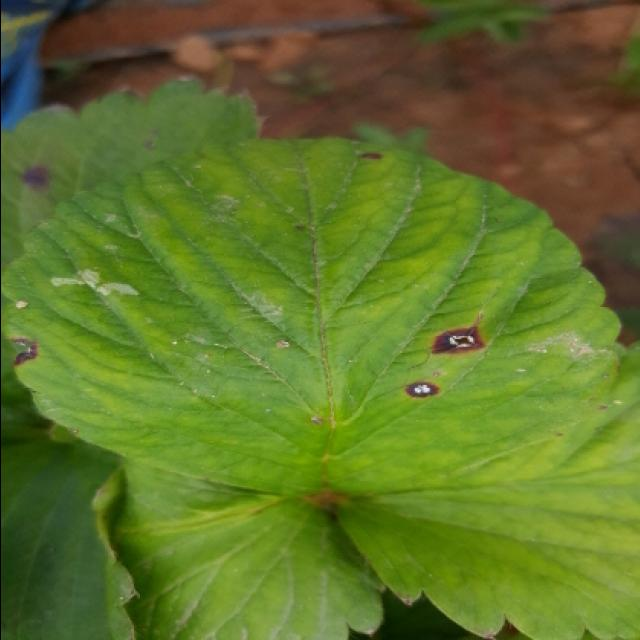Leaf Spot: (2, 137, 621, 498), (2, 73, 261, 270)
